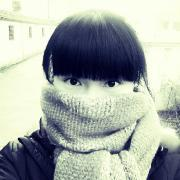OK: (54, 69, 130, 145)
